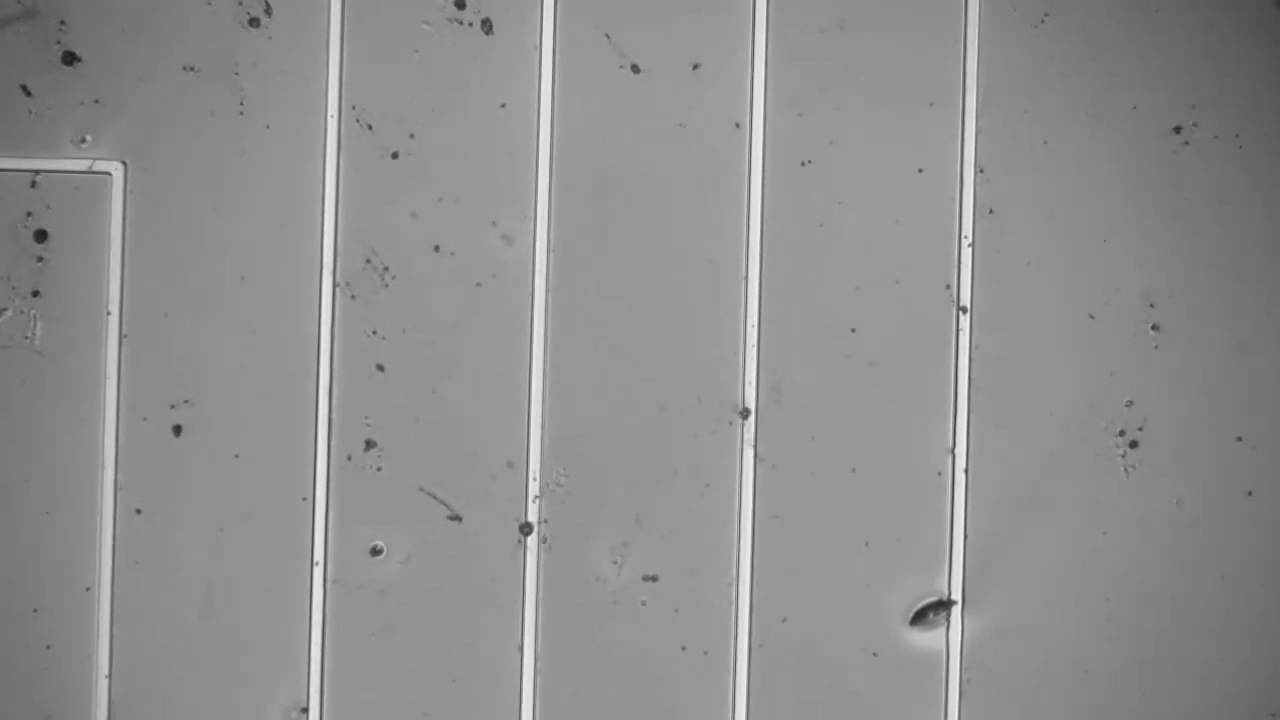stains_enbedded: (514, 514, 545, 541)
